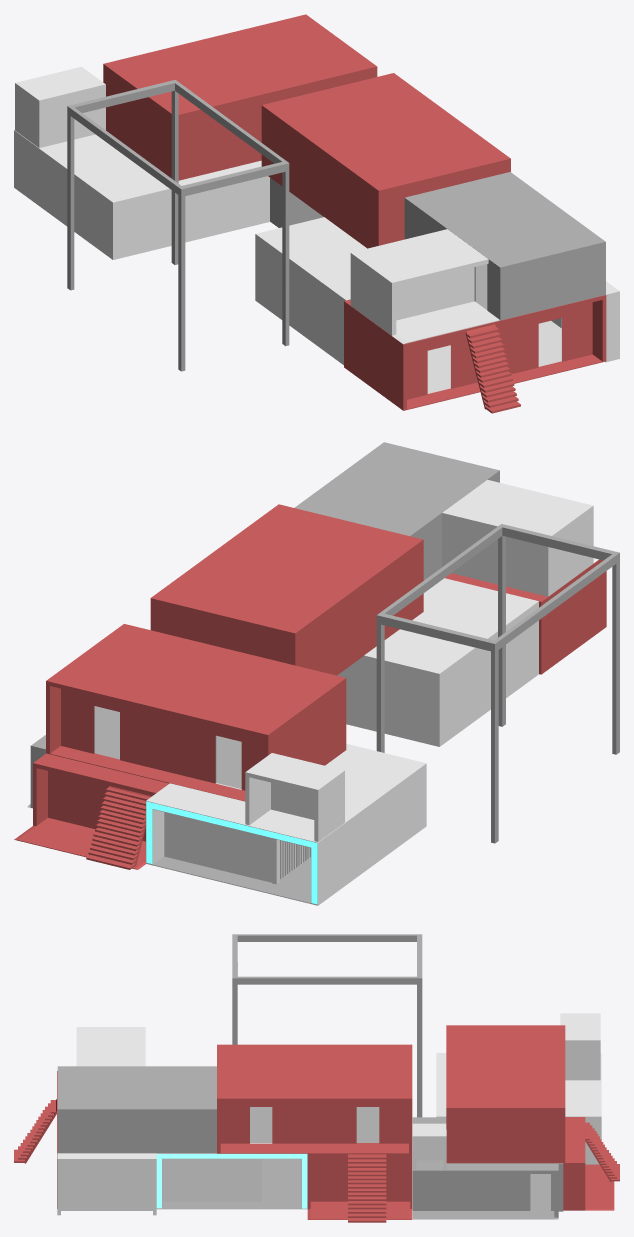
File: Structure1.fbx
3 views of the same model, one above another, from view 1: azimuth 30°, elevation 25°; view 2: azimuth 150°, elevation 25°; view 3: azimuth 270°, elevation 25° (orthographic). The views are drawn at different scales.
Visible parts, largest first — view 1: Structure1; view 2: Structure1; view 3: Structure1.
Boxes of the visible parts, x1,y1,x2,y2 form: Structure1: [14, 14, 619, 413]; Structure1: [14, 442, 619, 905]; Structure1: [14, 934, 619, 1222].
Bounding box in the file's own units: 20.07 × 9.86 × 35.62.
